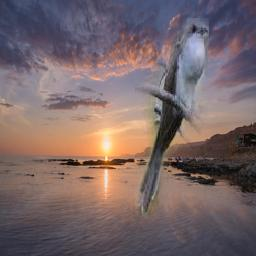Cuckoo: (135, 19, 209, 216)
